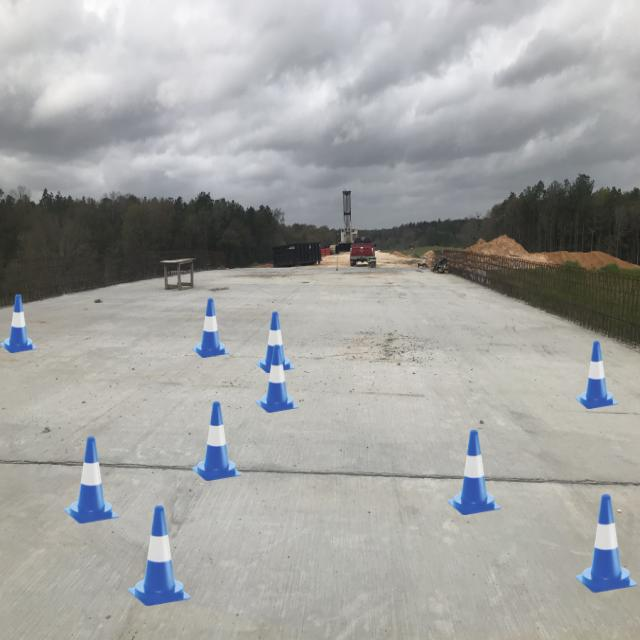blue_cone: (128, 505, 191, 606), (576, 494, 638, 593), (64, 436, 119, 524), (447, 430, 501, 515), (192, 401, 241, 481), (575, 341, 618, 409), (256, 344, 298, 412), (256, 311, 294, 373), (192, 298, 229, 358), (0, 295, 37, 353)
